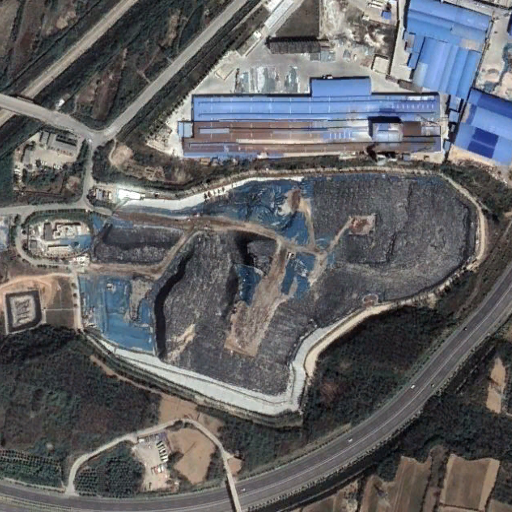lf: (98, 168, 486, 416)
